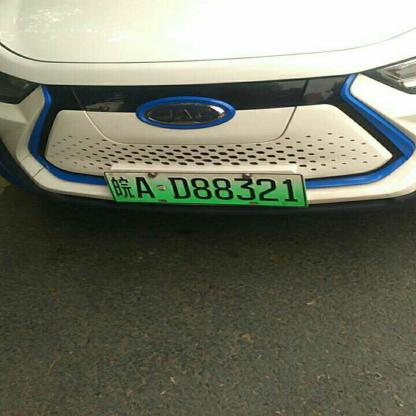lp: (104, 171, 306, 206)
